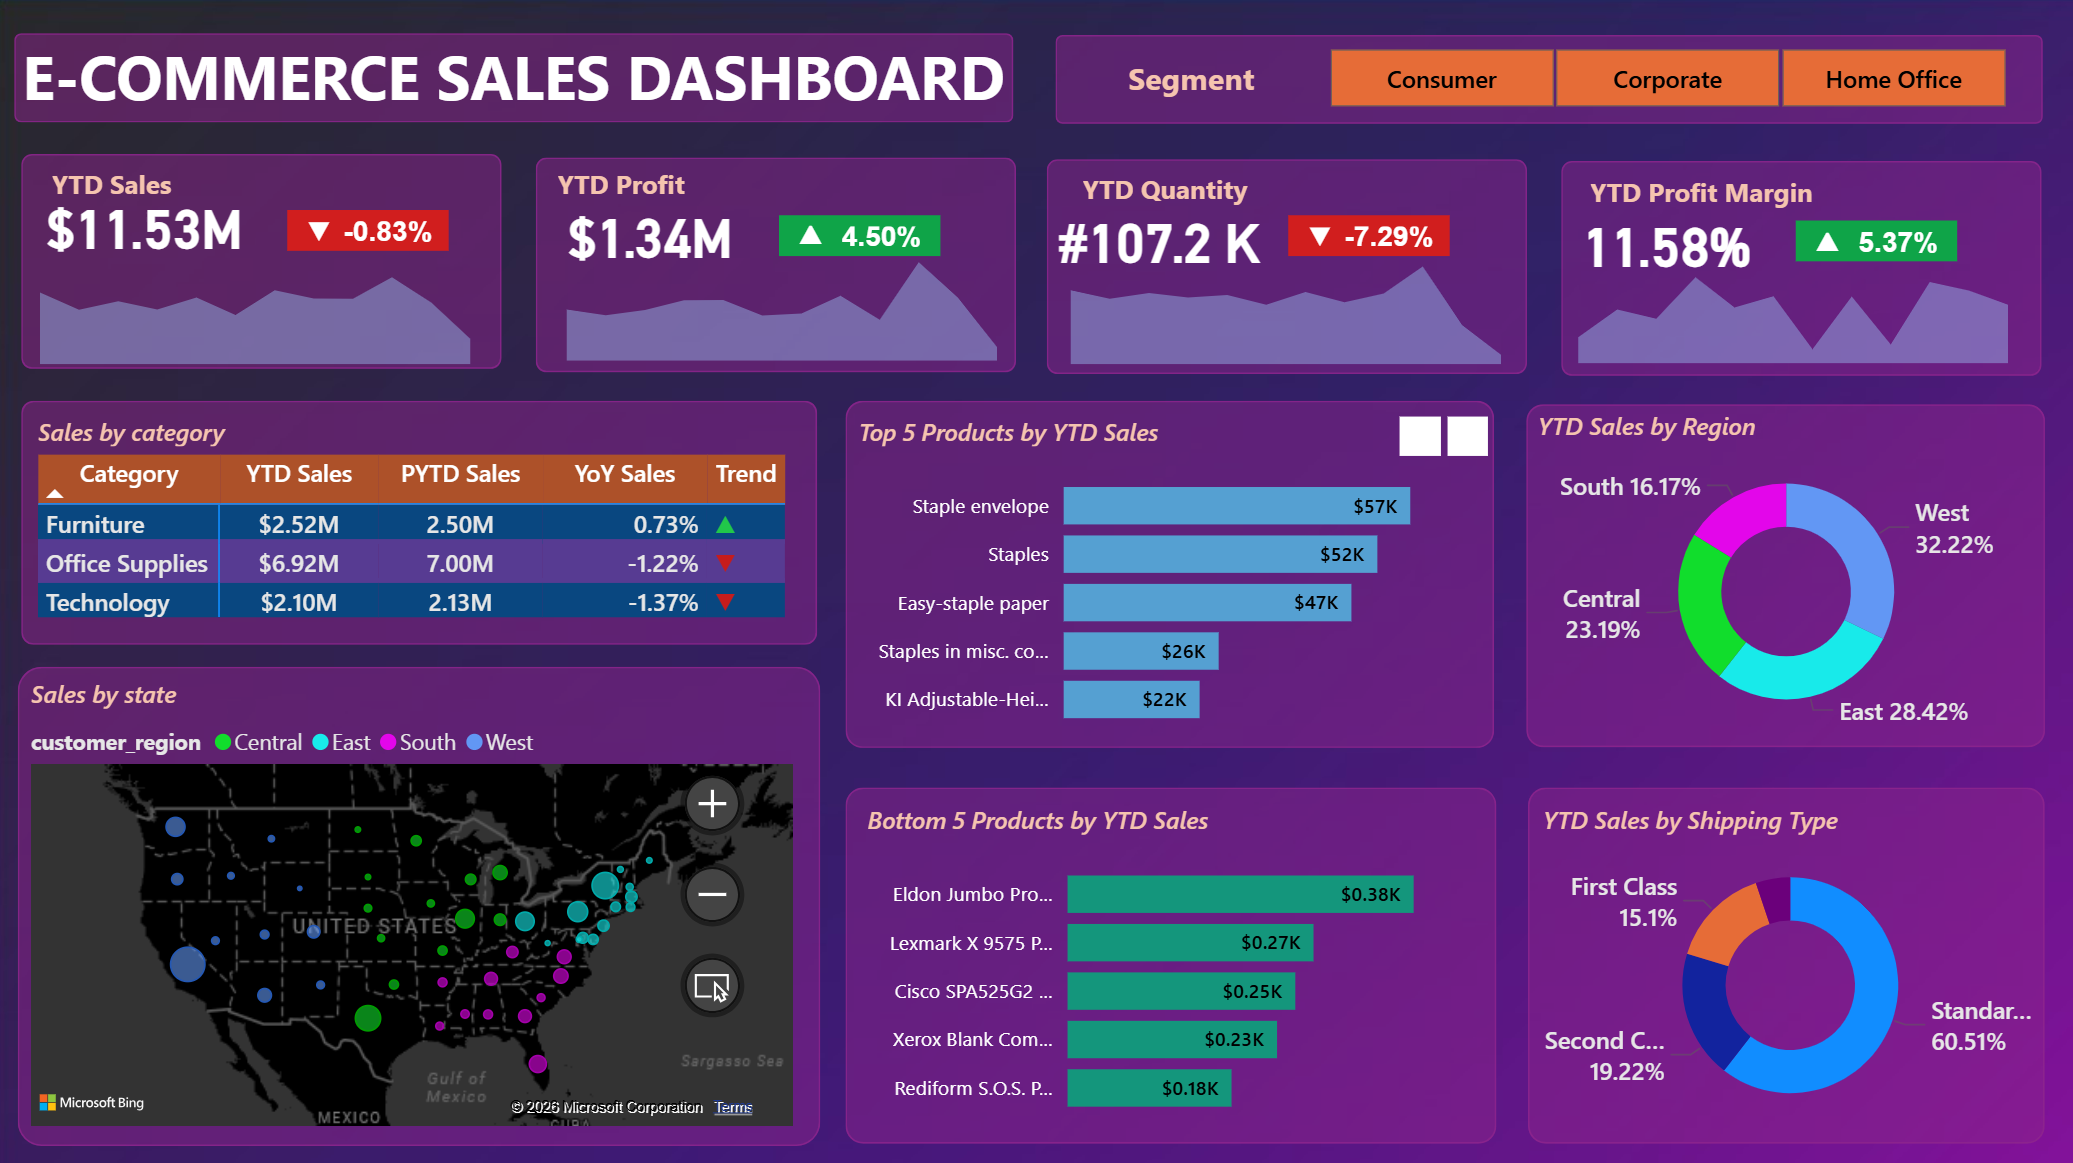

The dashboard page shown, as its layout file describes it:
{"tool":"powerbi","page":{"name":"Sales Insights & Trends","canvas":[1280,720],"ordinal":0},"visuals":[{"type":"shape","box":[11.9,20.8,615.4,55],"z":0},{"type":"textbox","box":[12.2,16.3,618.9,59.6],"z":1000},{"type":"shape","box":[16.4,95.1,295.8,132.3],"z":2000},{"type":"card","fields":{"Values":["ecommerce_data_excel.YTD Sales"]},"box":[22.3,111.5,138.2,55],"z":3000},{"type":"areaChart","fields":{"Category":["Calendar.Month"],"Y":["Sum(ecommerce_data_excel.sales_per_order)"]},"box":[13.4,147.2,294.3,81.8],"z":4000},{"type":"shape","box":[179.9,129.3,99.6,25.3],"z":5000},{"type":"card","fields":{"Values":["ecommerce_data_excel.YoY Sales"]},"box":[205.1,129.3,74.3,25.3],"z":6000},{"type":"card","fields":{"Values":["ecommerce_data_excel.Sales icon"]},"box":[179.9,127.8,38.6,23.8],"z":7000},{"type":"textbox","box":[29.7,96.6,113,38.6],"z":8000},{"type":"shape","box":[333,96.6,295.8,132.3],"z":9000},{"type":"card","fields":{"Values":["ecommerce_data_excel.YTD Profit"]},"box":[334.4,114.5,138.2,59.5],"z":10000},{"type":"areaChart","fields":{"Category":["Calendar.Month"],"Y":["Sum(ecommerce_data_excel.profit_per_order)"]},"box":[337.4,145.7,294.3,81.8],"z":11000},{"type":"shape","box":[483.1,132.3,99.6,25.3],"z":12000},{"type":"card","fields":{"Values":["ecommerce_data_excel.YoY Profit"]},"box":[508.3,132.3,74.3,25.3],"z":13000},{"type":"card","fields":{"Values":["ecommerce_data_excel.Profit icon"]},"box":[483.1,130.8,38.6,23.8],"z":14000},{"type":"textbox","box":[341.9,96.6,113,38.6],"z":15000},{"type":"shape","box":[648.1,98.1,295.8,132.3],"z":16000},{"type":"card","fields":{"Values":["ecommerce_data_excel.YTD Concatenated qty"]},"box":[648.1,120.4,138.2,53.5],"z":17000},{"type":"areaChart","fields":{"Category":["Calendar.Month"],"Y":["Sum(ecommerce_data_excel.order_quantity)"]},"box":[648.1,147.2,294.3,81.8],"z":18000},{"type":"shape","box":[796.1,132.7,99.6,25.3],"z":19000},{"type":"card","fields":{"Values":["ecommerce_data_excel.YoY Qty"]},"box":[821.3,132.7,74.3,25.3],"z":20000},{"type":"card","fields":{"Values":["ecommerce_data_excel.Qty icon"]},"box":[796.1,131.2,38.6,23.8],"z":21000},{"type":"textbox","box":[665.3,100,113,38.6],"z":22000},{"type":"shape","box":[964.7,99.6,295.8,132.3],"z":23000},{"type":"card","fields":{"Values":["ecommerce_data_excel.YTD Profit Margin"]},"box":[960.2,123.4,138.2,53.5],"z":24000},{"type":"areaChart","fields":{"Category":["Calendar.Month"],"Y":["ecommerce_data_excel.Profit Margin"]},"box":[960.2,147.6,293.9,81.3],"z":25000},{"type":"shape","box":[1109.3,135.9,99.6,25.3],"z":26000},{"type":"card","fields":{"Values":["ecommerce_data_excel.YoY Profit Margin"]},"box":[1134.6,135.9,74.3,25.3],"z":27000},{"type":"card","fields":{"Values":["ecommerce_data_excel.Profit Margin icon"]},"box":[1109.3,134.4,38.6,23.8],"z":28000},{"type":"textbox","box":[978.1,102.6,156.1,38.6],"z":29000},{"type":"shape","box":[16.3,246.5,490.3,150.3],"z":30000},{"type":"pivotTable","title":"Sales by category","fields":{"Rows":["ecommerce_data_excel.category_name"],"Values":["ecommerce_data_excel.YTD Sales","ecommerce_data_excel.PYTD Sales","ecommerce_data_excel.YoY Sales","ecommerce_data_excel.Sales icon"]},"box":[21.7,256,475.4,140.8],"z":31000},{"type":"shape","box":[13.5,410.4,494.3,295.2],"z":32000},{"type":"map","title":"Sales by state","fields":{"Y":["us_state_long_lat_codes.latitude"],"X":["us_state_long_lat_codes.longitude"],"Size":["ecommerce_data_excel.YTD Sales"],"Series":["ecommerce_data_excel.customer_region"]},"box":[17.6,417.1,479.4,281.7],"z":33000},{"type":"shape","box":[524.1,246.5,399.5,214],"z":34000},{"type":"shape","box":[524.1,484.8,400.9,219.4],"z":35000},{"type":"barChart","title":"Top 5 Products by YTD Sales","fields":{"Category":["ecommerce_data_excel.product_name"],"Y":["ecommerce_data_excel.YTD Sales"]},"box":[526.8,256,394.1,204.5],"z":36000},{"type":"barChart","title":"Bottom 5 Products by YTD Sales","fields":{"Category":["ecommerce_data_excel.product_name"],"Y":["ecommerce_data_excel.YTD Sales"]},"box":[532.2,494.3,386,204.5],"z":37000},{"type":"shape","box":[942.6,249.2,319.6,211.3],"z":38000},{"type":"shape","box":[943.9,484.8,318.3,219.4],"z":39000},{"type":"donutChart","title":"YTD Sales by Region","fields":{"Category":["ecommerce_data_excel.customer_region"],"Y":["ecommerce_data_excel.YTD Sales"]},"box":[945.3,251.9,315.6,204.5],"z":40000},{"type":"donutChart","title":"YTD Sales by Shipping Type","fields":{"Y":["ecommerce_data_excel.YTD Sales"],"Category":["ecommerce_data_excel.shipping_type"]},"box":[948,494.3,314.2,204.5],"z":41000},{"type":"shape","box":[653,21.1,608.2,54.7],"z":42000},{"type":"slicer","fields":{"Values":["ecommerce_data_excel.customer_segment"]},"box":[796.5,23.7,465.5,48.6],"z":43000},{"type":"textbox","box":[673.1,29.8,128.7,37.9],"z":44000}]}

Visuals, with their boxes in screenshot pixels (x1, y1, x2, y2), scaled from the page's 1280x720 canvas onto the 2073x1163 screenshot:
shape: [19, 34, 1016, 122]
textbox: [20, 26, 1022, 123]
shape: [27, 154, 506, 367]
card - ecommerce_data_excel.YTD Sales: [36, 180, 260, 269]
areaChart - Calendar.Month x Sum(ecommerce_data_excel.sales_per_order): [22, 238, 498, 370]
shape: [291, 209, 453, 250]
card - ecommerce_data_excel.YoY Sales: [332, 209, 452, 250]
card - ecommerce_data_excel.Sales icon: [291, 206, 354, 245]
textbox: [48, 156, 231, 218]
shape: [539, 156, 1018, 370]
card - ecommerce_data_excel.YTD Profit: [542, 185, 765, 281]
areaChart - Calendar.Month x Sum(ecommerce_data_excel.profit_per_order): [546, 235, 1023, 367]
shape: [782, 214, 944, 255]
card - ecommerce_data_excel.YoY Profit: [823, 214, 944, 255]
card - ecommerce_data_excel.Profit icon: [782, 211, 845, 250]
textbox: [554, 156, 737, 218]
shape: [1050, 158, 1529, 372]
card - ecommerce_data_excel.YTD Concatenated qty: [1050, 194, 1273, 281]
areaChart - Calendar.Month x Sum(ecommerce_data_excel.order_quantity): [1050, 238, 1526, 370]
shape: [1289, 214, 1451, 255]
card - ecommerce_data_excel.YoY Qty: [1330, 214, 1450, 255]
card - ecommerce_data_excel.Qty icon: [1289, 212, 1352, 250]
textbox: [1077, 162, 1260, 224]
shape: [1562, 161, 2041, 375]
card - ecommerce_data_excel.YTD Profit Margin: [1555, 199, 1779, 286]
areaChart - Calendar.Month x ecommerce_data_excel.Profit Margin: [1555, 238, 2031, 370]
shape: [1797, 220, 1958, 260]
card - ecommerce_data_excel.YoY Profit Margin: [1838, 220, 1958, 260]
card - ecommerce_data_excel.Profit Margin icon: [1797, 217, 1859, 256]
textbox: [1584, 166, 1837, 228]
shape: [26, 398, 820, 641]
"Sales by category" pivotTable: [35, 414, 805, 641]
shape: [22, 663, 822, 1140]
"Sales by state" map: [29, 674, 805, 1129]
shape: [849, 398, 1496, 744]
shape: [849, 783, 1498, 1137]
"Top 5 Products by YTD Sales" barChart: [853, 414, 1491, 744]
"Bottom 5 Products by YTD Sales" barChart: [862, 798, 1487, 1129]
shape: [1527, 403, 2044, 744]
shape: [1529, 783, 2044, 1137]
"YTD Sales by Region" donutChart: [1531, 407, 2042, 737]
"YTD Sales by Shipping Type" donutChart: [1535, 798, 2044, 1129]
shape: [1058, 34, 2043, 122]
slicer - ecommerce_data_excel.customer_segment: [1290, 38, 2044, 117]
textbox: [1090, 48, 1299, 109]
